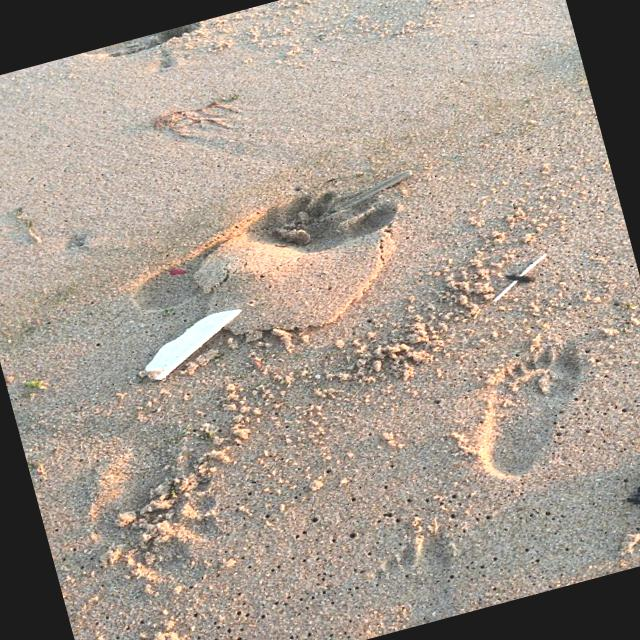Trash: (132, 304, 252, 388), (481, 248, 558, 306)
